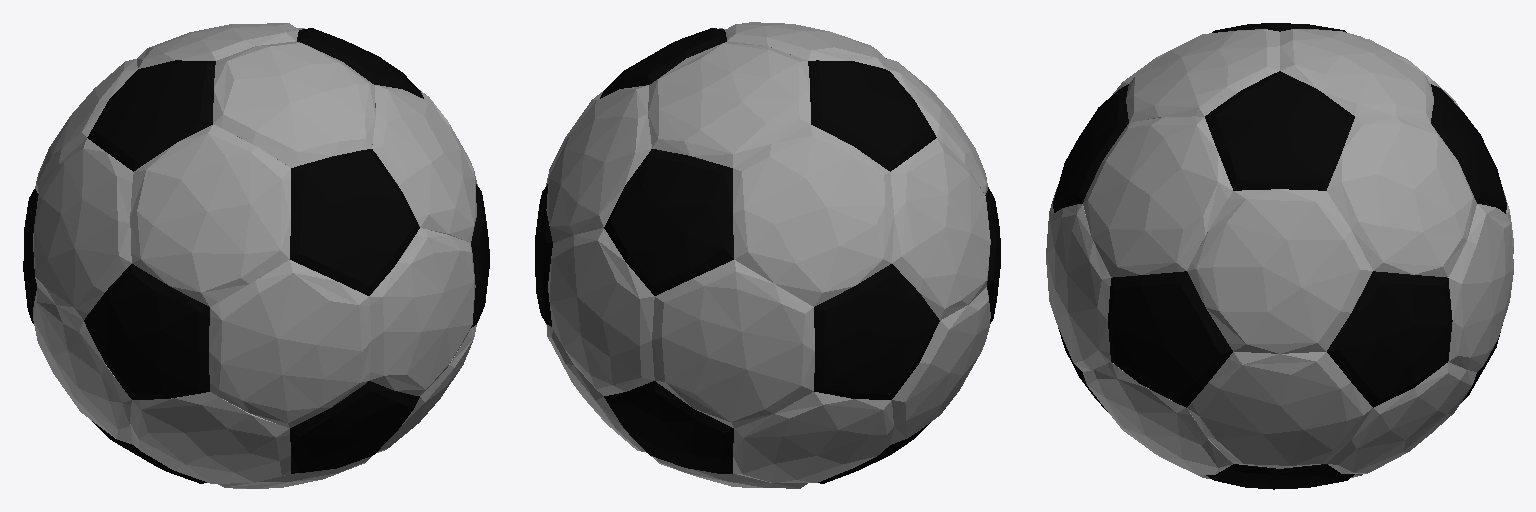
File: ball1.obj
3 renders of one model, left to right at view 1: azimuth 30°, elevation 25°; view 2: azimuth 150°, elevation 25°; view 3: azimuth 270°, elevation 25°, orthographic.
Parts seen in each view (by area): view 1: Solid.001; view 2: Solid.001; view 3: Solid.001.
Part boxes in pixels (x1,y1,x2,y2): Solid.001: (23,23,489,488); Solid.001: (535,22,1000,488); Solid.001: (1046,23,1513,489).
Bounding box in the file's own units: 1.92 × 1.93 × 1.93.